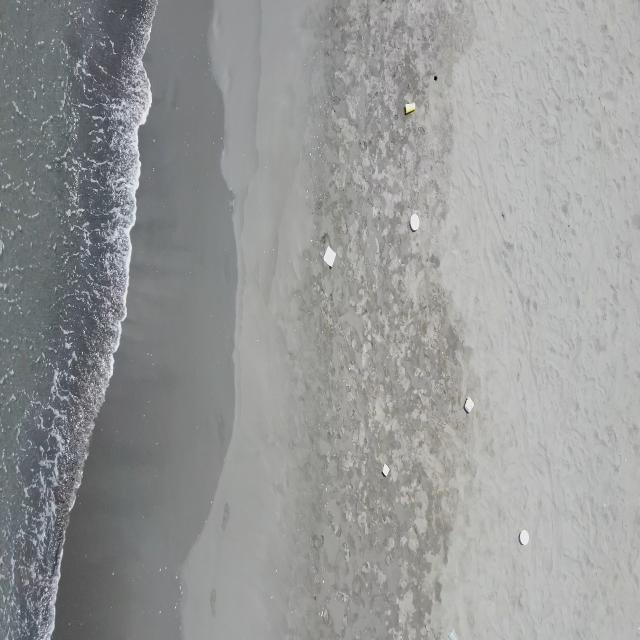take-away-containers: (324, 245, 336, 268), (409, 214, 420, 232), (520, 529, 530, 547), (464, 396, 474, 413), (382, 463, 390, 478)
takeaway-cup: (404, 101, 416, 114), (448, 627, 459, 640)
